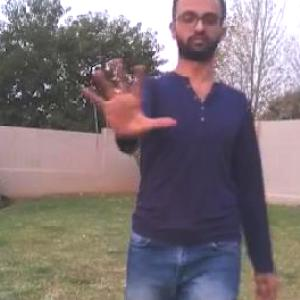follow_hand: (77, 51, 178, 141)
